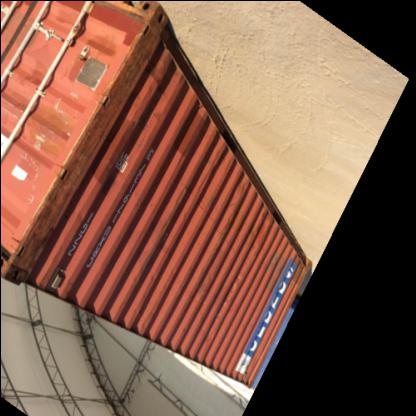Damage: (9, 152, 76, 268), (114, 19, 153, 100), (211, 290, 235, 320), (245, 232, 267, 264), (142, 263, 162, 293), (154, 211, 170, 245), (174, 180, 188, 212), (236, 176, 252, 203), (150, 105, 163, 129)
